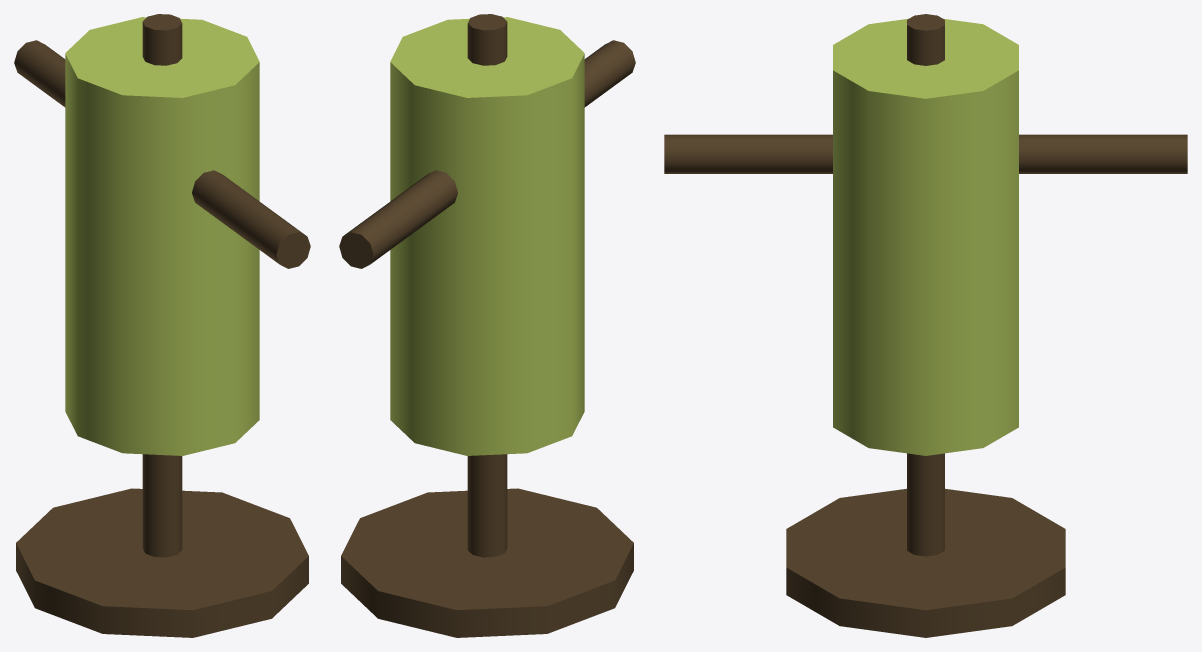
Rendered from Xander_Dummy_TEXTURED.fbx.
3 views of the same model, side by side, from view 1: azimuth 30°, elevation 25°; view 2: azimuth 150°, elevation 25°; view 3: azimuth 270°, elevation 25° (orthographic).
Parts seen in each view (by area): view 1: polySurface3; view 2: polySurface3; view 3: polySurface3.
Boxes of the visible parts, bbox=[...] form: polySurface3: bbox=[14, 14, 310, 637]; polySurface3: bbox=[339, 14, 635, 637]; polySurface3: bbox=[664, 14, 1187, 637].
Bounding box in the file's own units: 3.24 × 6.74 × 5.77.
Materials: 1 (1 with a texture image).
